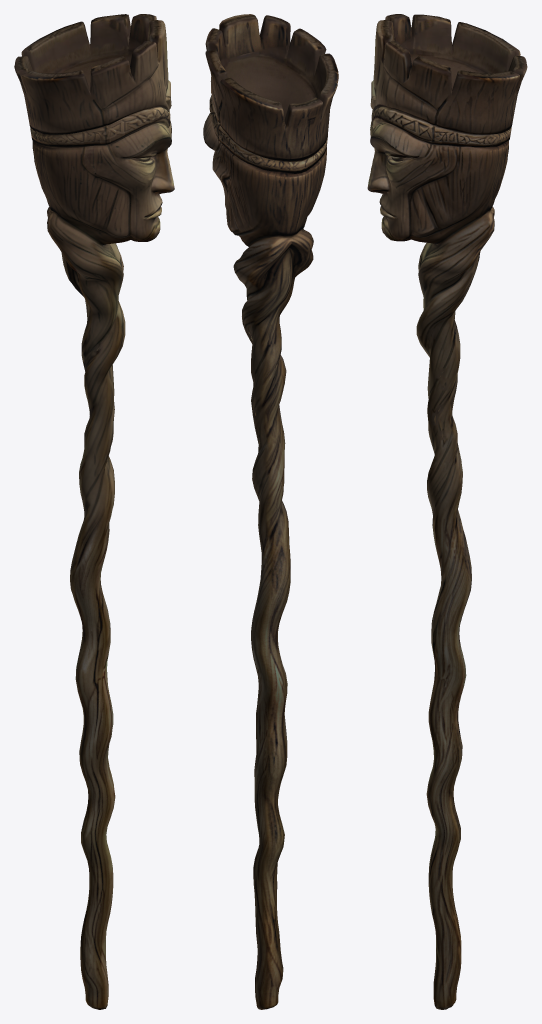
Rendered from kinsmoke_witnesspillar.fbx.
The picture shows the model from 3 angles, left to right: view 1: azimuth 90°, elevation 25°; view 2: azimuth 210°, elevation 25°; view 3: azimuth 270°, elevation 25°; orthographic projection.
Parts seen in each view (by area): view 1: Witnesspillar; view 2: Witnesspillar; view 3: Witnesspillar.
Part boxes in pixels (x1,y1,x2,y2): Witnesspillar: (14, 14, 174, 1009); Witnesspillar: (203, 14, 338, 1009); Witnesspillar: (367, 14, 527, 1009).
Bounding box in the file's own units: 11.48 × 95.12 × 14.08.
Materials: 1 (1 with a texture image).
